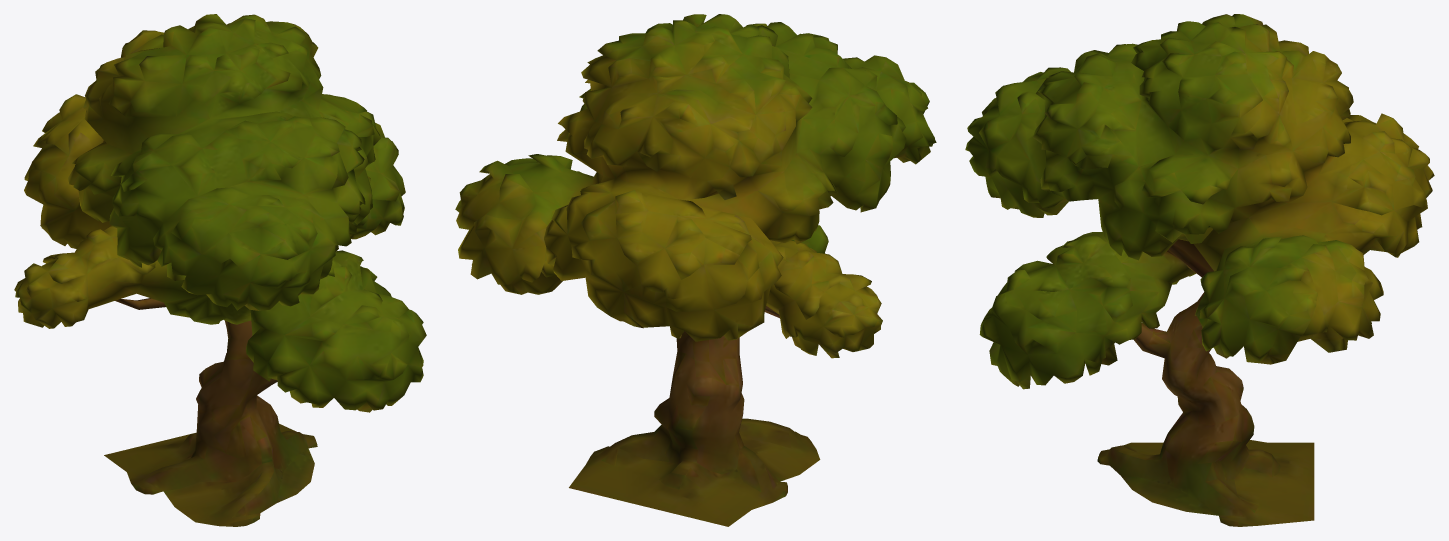
The model's file is oak_2.glb.
3 renders of one model, left to right at view 1: azimuth 30°, elevation 25°; view 2: azimuth 150°, elevation 25°; view 3: azimuth 270°, elevation 25°, orthographic.
Parts seen in each view (by area): view 1: tripo_node_80f5268f-40de-4ac4-80f4-bd1d1a305b40; view 2: tripo_node_80f5268f-40de-4ac4-80f4-bd1d1a305b40; view 3: tripo_node_80f5268f-40de-4ac4-80f4-bd1d1a305b40.
Boxes of the visible parts, box(x1,y1,x2,y2) form: tripo_node_80f5268f-40de-4ac4-80f4-bd1d1a305b40: box(14, 14, 426, 526); tripo_node_80f5268f-40de-4ac4-80f4-bd1d1a305b40: box(455, 14, 936, 526); tripo_node_80f5268f-40de-4ac4-80f4-bd1d1a305b40: box(965, 14, 1434, 526).
Bounding box in the file's own units: 7.06 × 7.6 × 7.24.
Materials: 1 (1 with a texture image).
